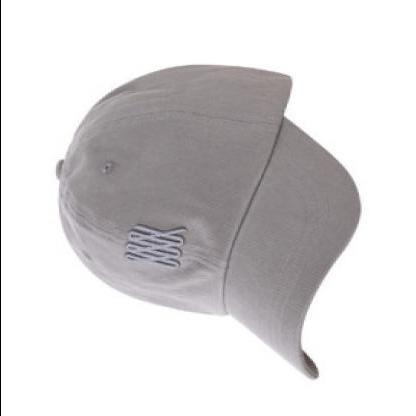cap: (43, 60, 364, 390)
